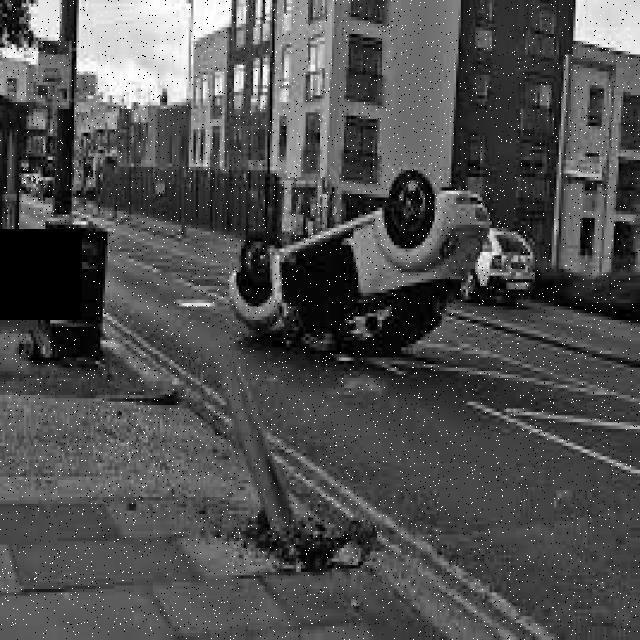accident: (227, 169, 495, 363)
vehicle: (486, 221, 544, 308)
